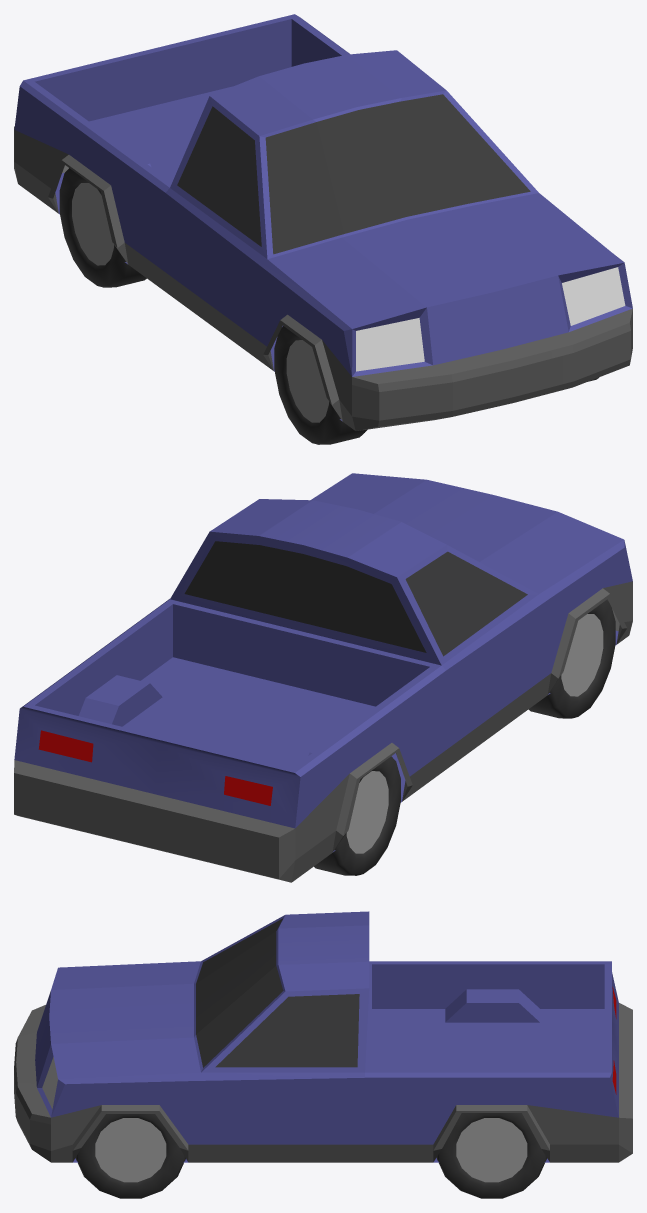
Rendered from Car_V3.fbx.
The picture shows the model from 3 angles, top to bottom: view 1: azimuth 30°, elevation 25°; view 2: azimuth 150°, elevation 25°; view 3: azimuth 270°, elevation 25°; orthographic projection. The views are drawn at different scales.
Parts seen in each view (by area): view 1: Car_V3; view 2: Car_V3; view 3: Car_V3.
Boxes of the visible parts, x1,y1,x2,y2 form: Car_V3: [14, 14, 632, 444]; Car_V3: [14, 473, 632, 882]; Car_V3: [14, 911, 632, 1198].
Bounding box in the file's own units: 3.49 × 2.71 × 7.53.
